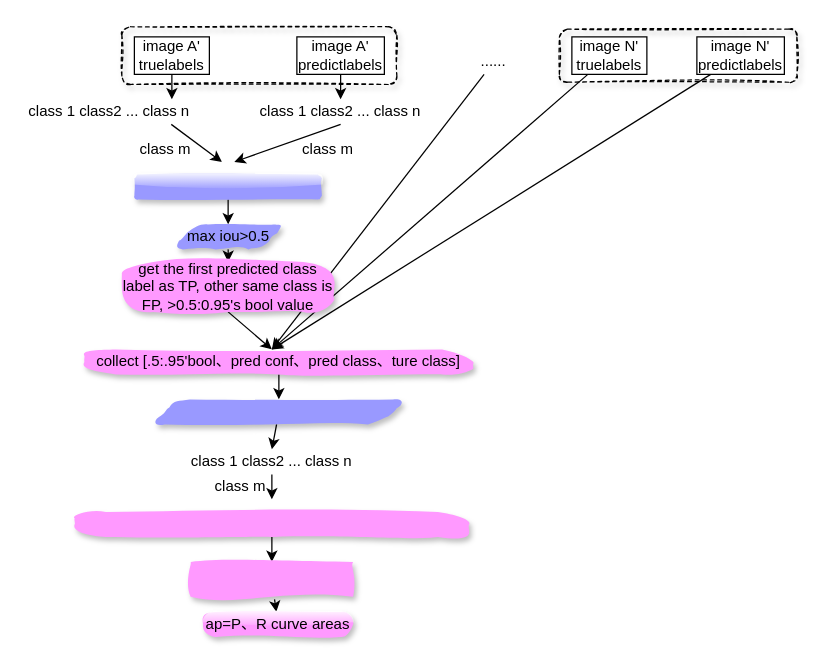
Image size: 826x668. Some labels were removed from this diagram. The shapes that lost their labels are listed below. From the top down, each one's centre as x and y in pixels, then its label:
At point (229, 188): "the maximum iou and index in true labels".
At point (279, 413): "sort descending by pred conf".
At point (272, 525): "n_l: number of class m true labels n_p: number of class m predict labels".
At point (272, 582): "use bool value cumsum calculate R、P".
